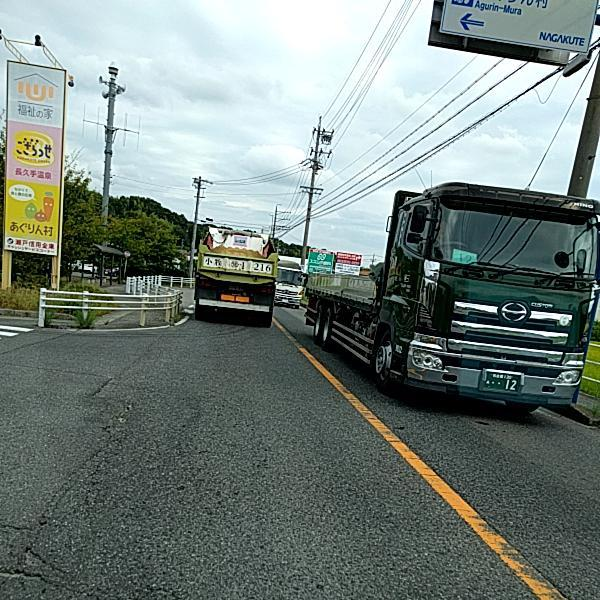D40: (0, 541, 61, 584)
